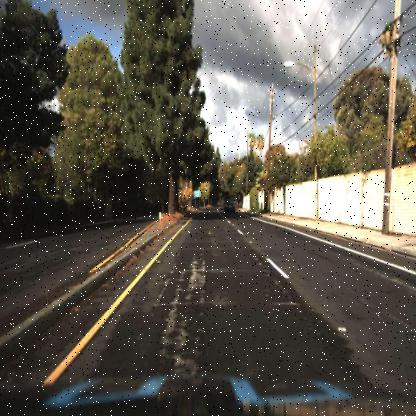car: (224, 199, 235, 215)
